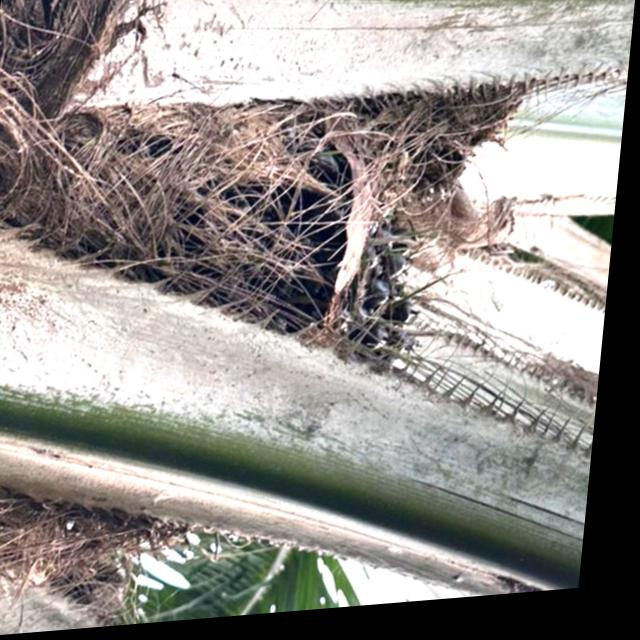unripe: (4, 78, 485, 407)
